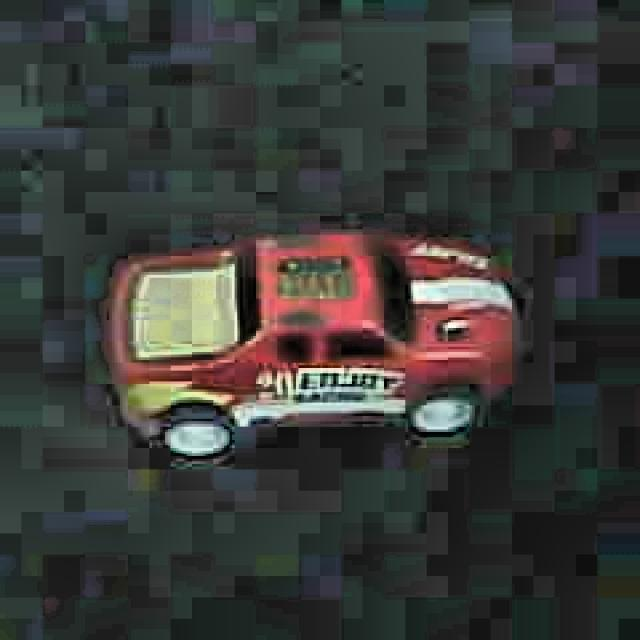car: (101, 219, 518, 467)
